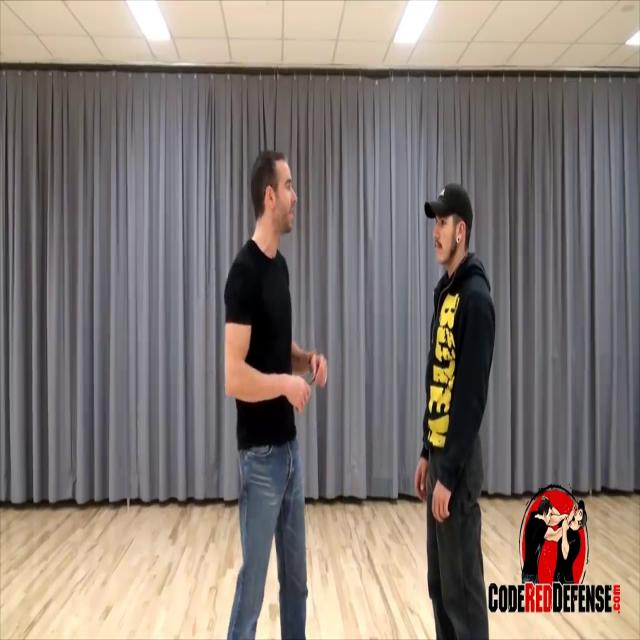Knife_Handle: (289, 371, 318, 411), (309, 353, 327, 389)
